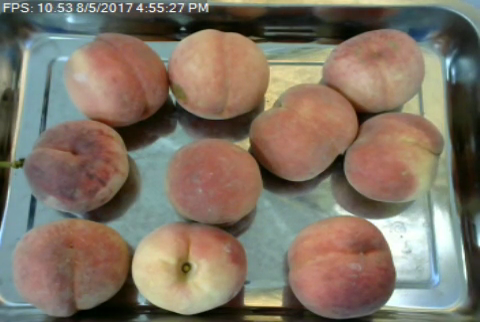Peach: (12, 217, 129, 315), (286, 215, 397, 318), (249, 82, 360, 181), (133, 222, 246, 316), (25, 118, 132, 212), (65, 32, 169, 126), (318, 26, 427, 115), (171, 29, 273, 121), (342, 112, 445, 203), (164, 137, 261, 225)
